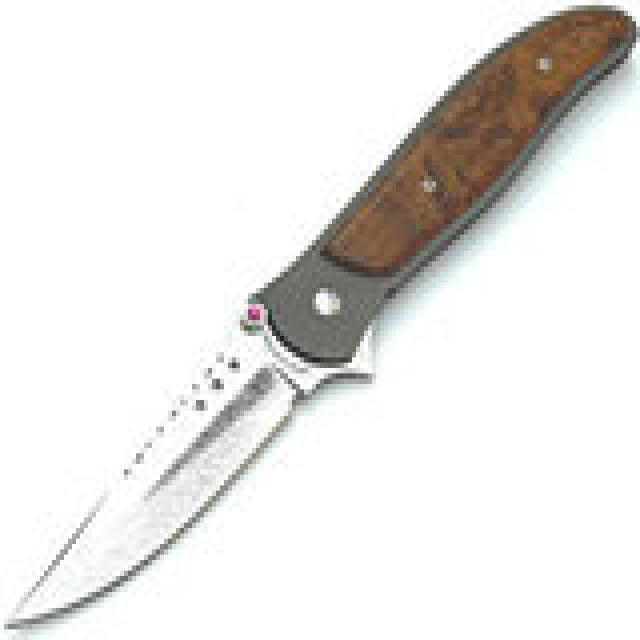Knife: (2, 0, 637, 633)
